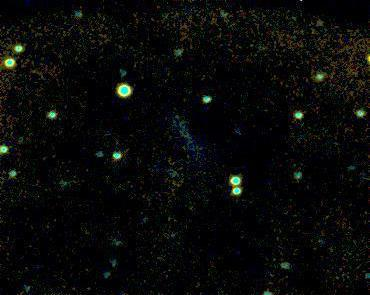star: (350, 43, 370, 73)
